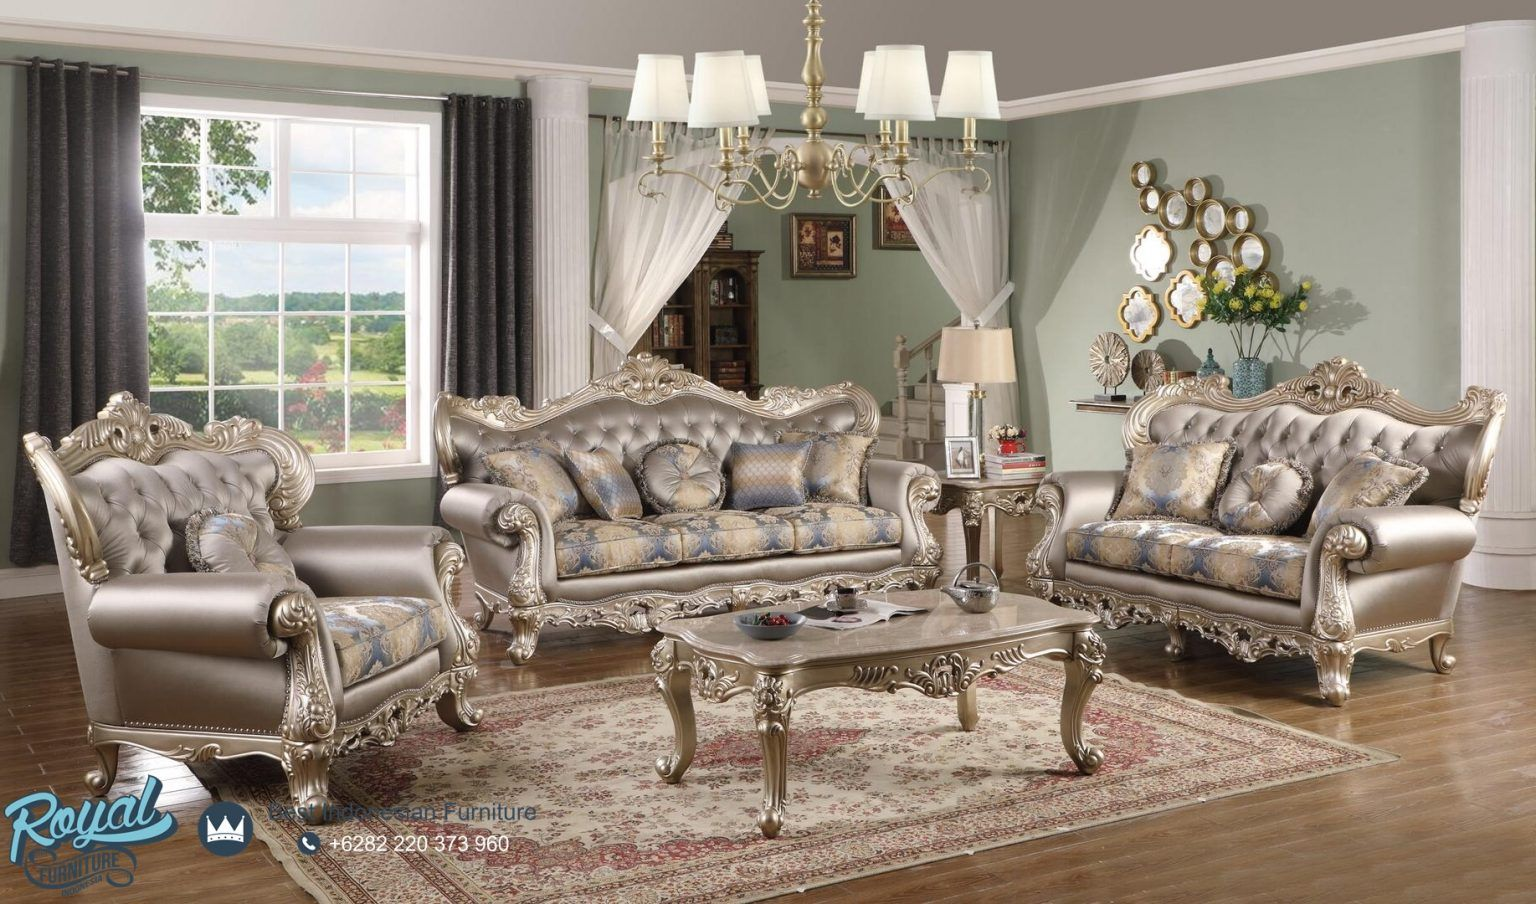kursi: (15, 394, 488, 791)
lampu: (618, 48, 1008, 230), (929, 326, 1007, 474)
meja: (656, 573, 1125, 786)
sova: (1033, 381, 1498, 687), (424, 383, 949, 599)
tanaman: (1203, 274, 1294, 383)
